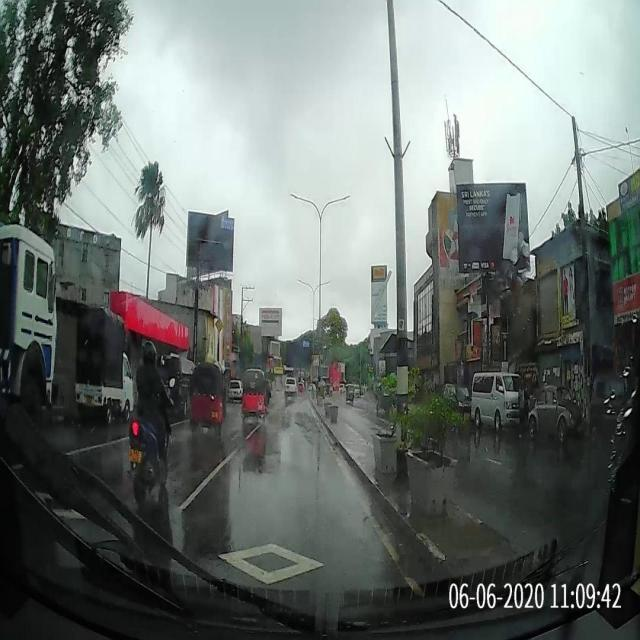Liniya 1: (364, 506, 420, 589), (177, 449, 239, 510), (66, 436, 129, 455), (245, 422, 261, 441)
Romb: (219, 535, 321, 586)
